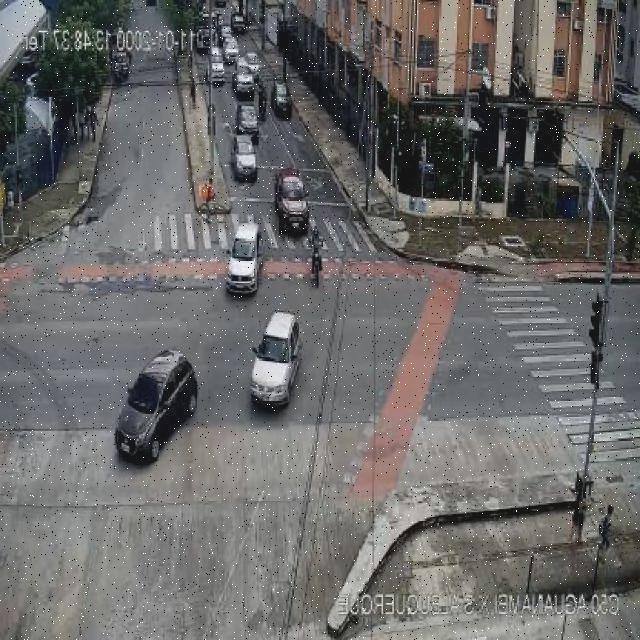Car: (111, 348, 202, 464), (249, 310, 301, 408), (225, 225, 262, 297), (274, 167, 309, 235), (232, 135, 258, 182), (270, 79, 294, 116), (235, 102, 258, 134), (232, 64, 255, 95), (208, 52, 225, 84), (222, 36, 240, 62)
Cycle: (307, 240, 327, 288), (196, 195, 226, 224), (258, 98, 268, 122)
